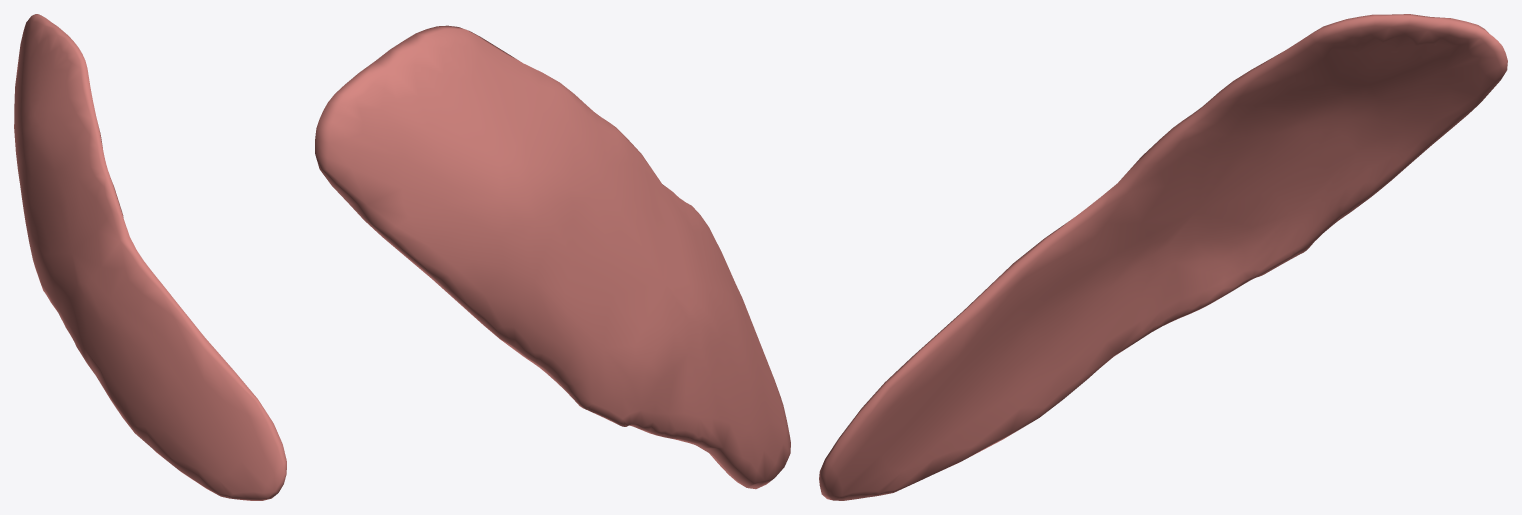
3 renders of one model, left to right at view 1: azimuth 30°, elevation 25°; view 2: azimuth 150°, elevation 25°; view 3: azimuth 270°, elevation 25°, orthographic. The views are drawn at different scales.
Visible parts, largest first — view 1: ZA_57d9a2f88f72e2f0; view 2: ZA_57d9a2f88f72e2f0; view 3: ZA_57d9a2f88f72e2f0.
Boxes of the visible parts, x1,y1,x2,y2 form: ZA_57d9a2f88f72e2f0: (14, 14, 286, 500); ZA_57d9a2f88f72e2f0: (315, 25, 790, 489); ZA_57d9a2f88f72e2f0: (819, 14, 1507, 500).
Bounding box in the file's own units: 0.00413 × 0.0136 × 0.0175.
